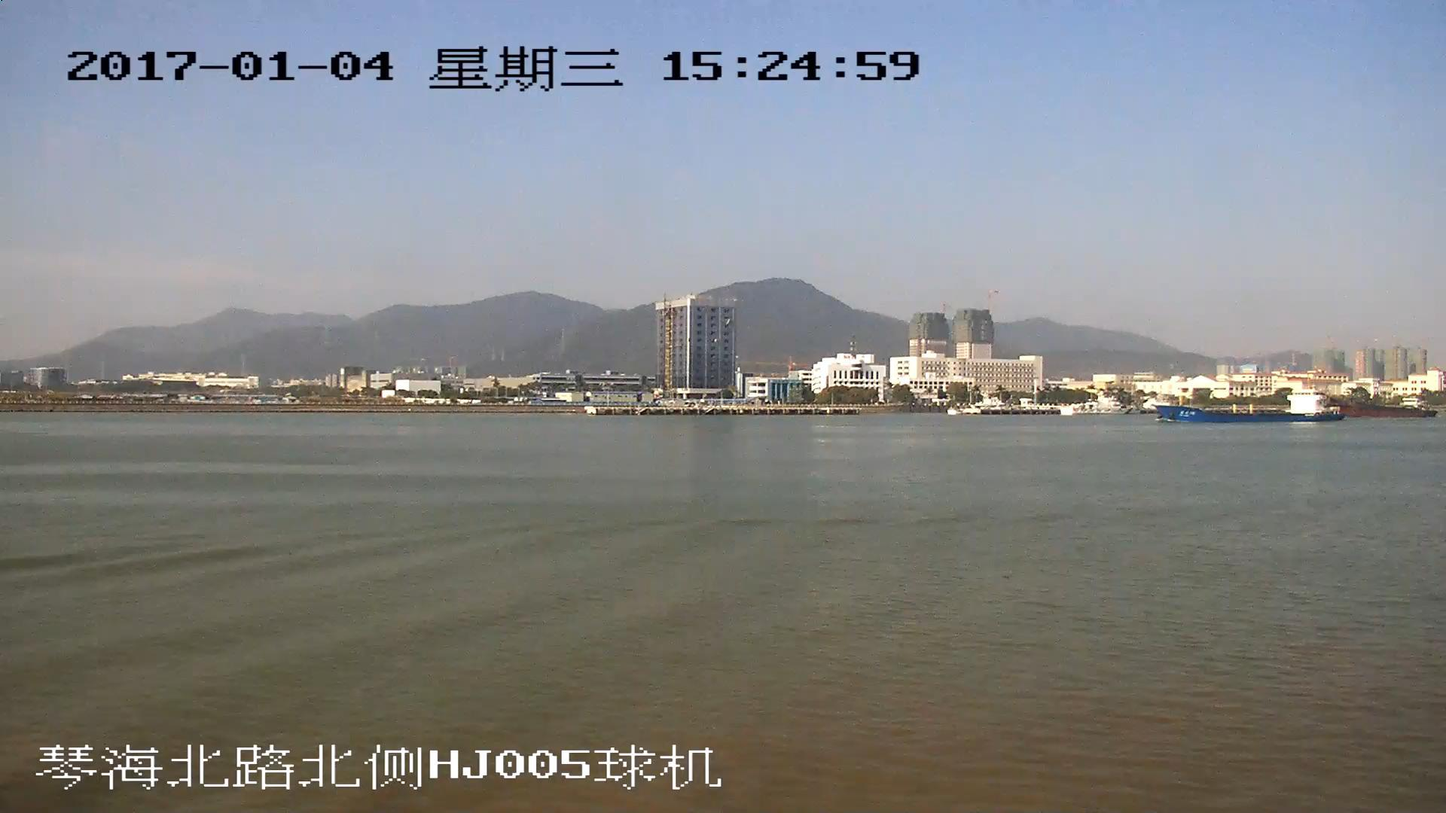general cargo ship: (1161, 383, 1344, 421)
